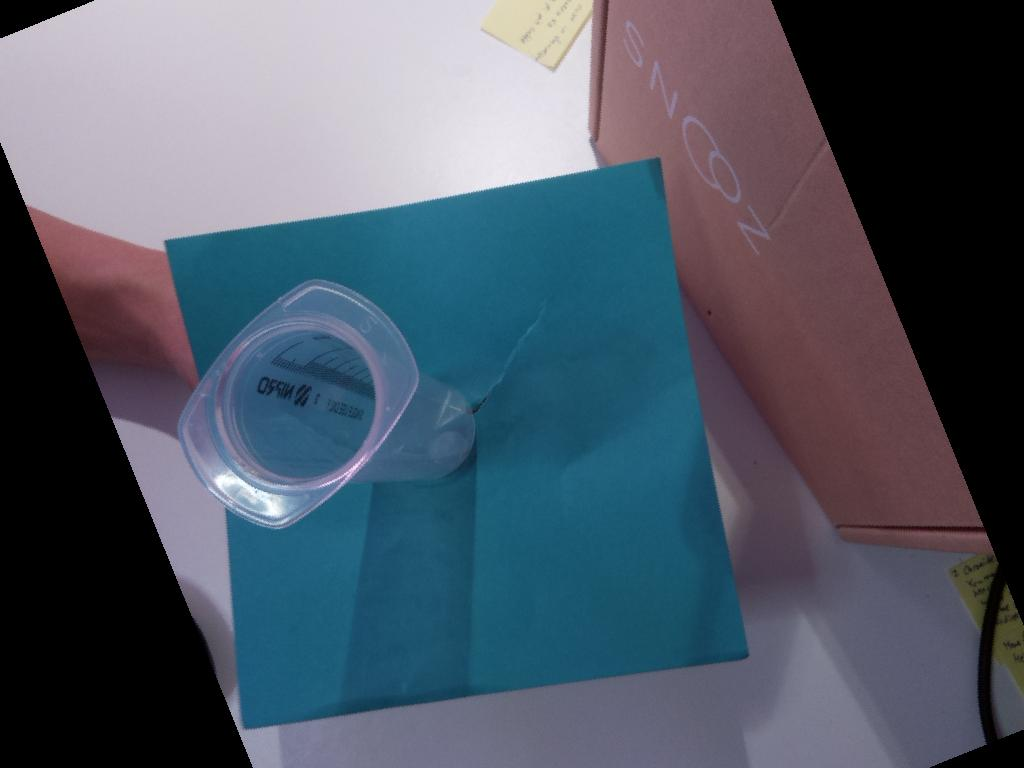clean: (175, 278, 420, 530)
